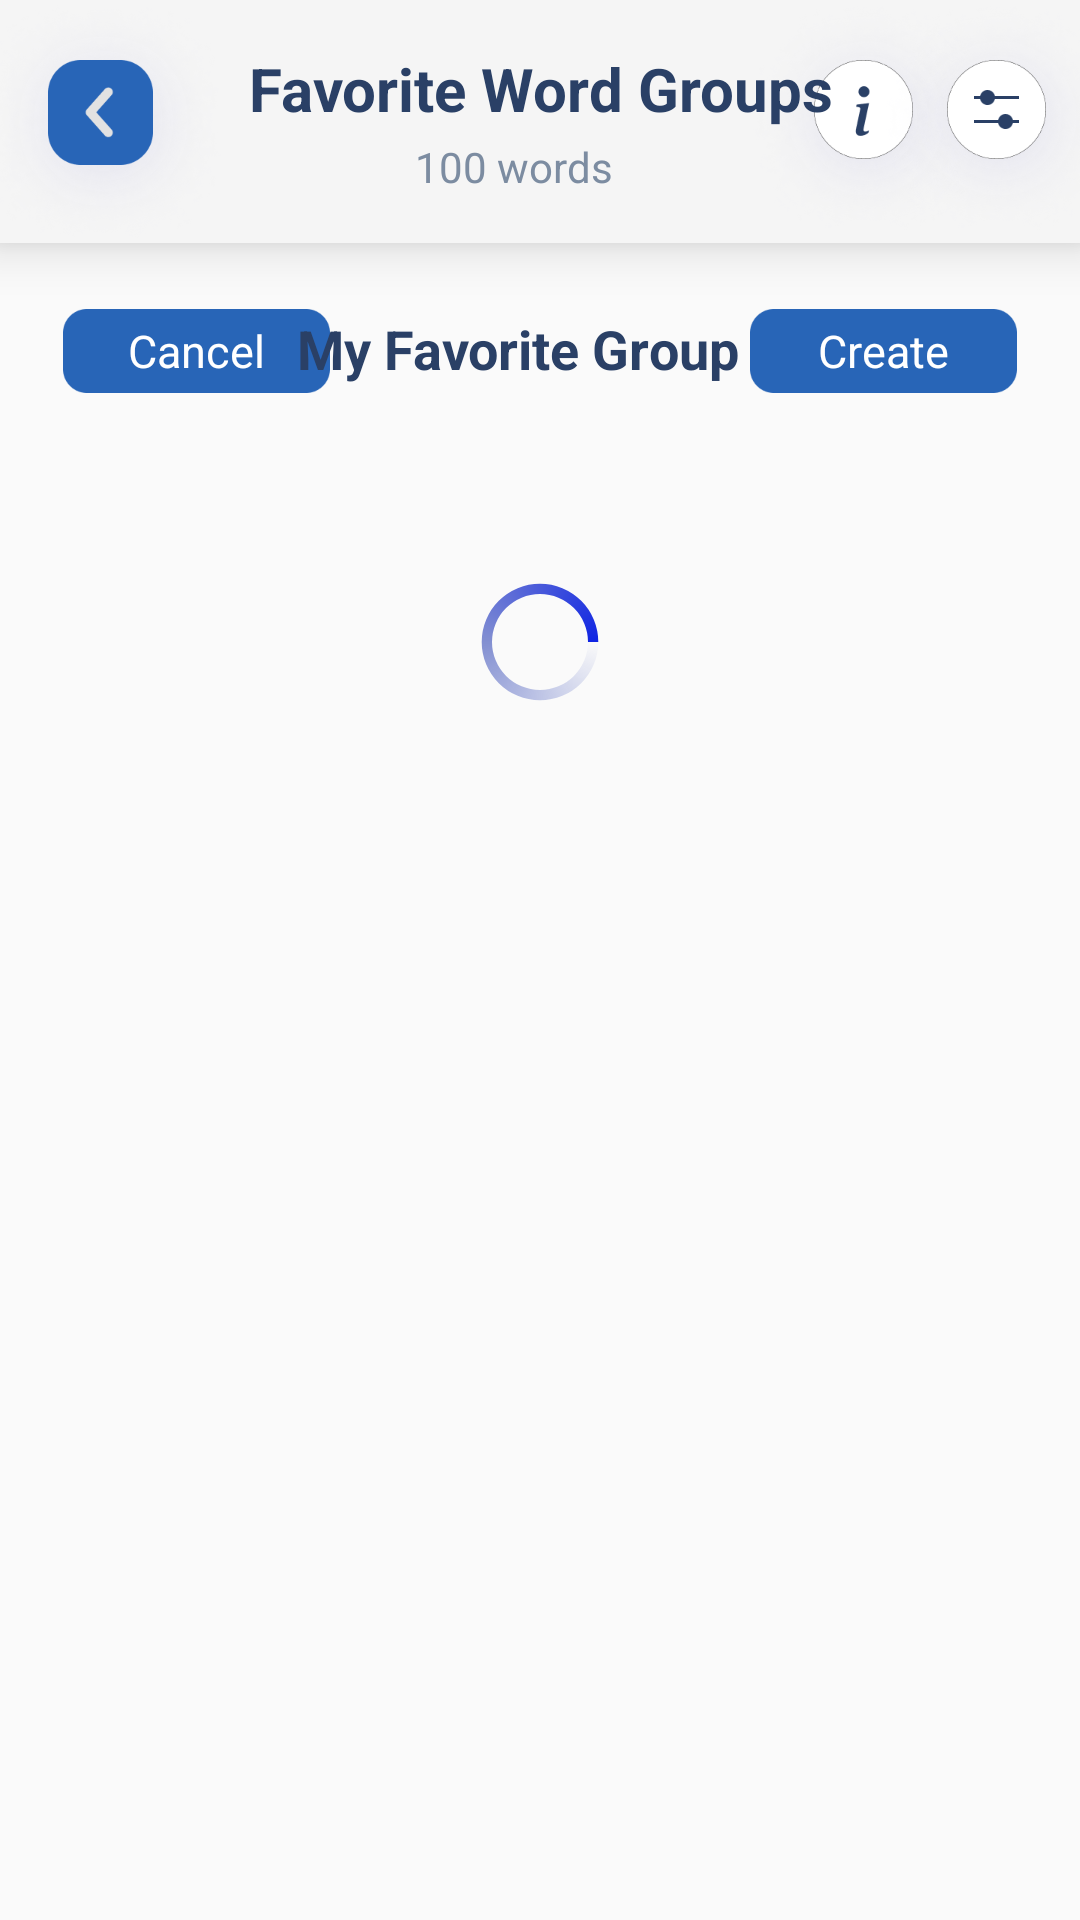

Icon click points for this 1080w x 1920h phone screenshot, format (x,y):
backword: (100,112)
